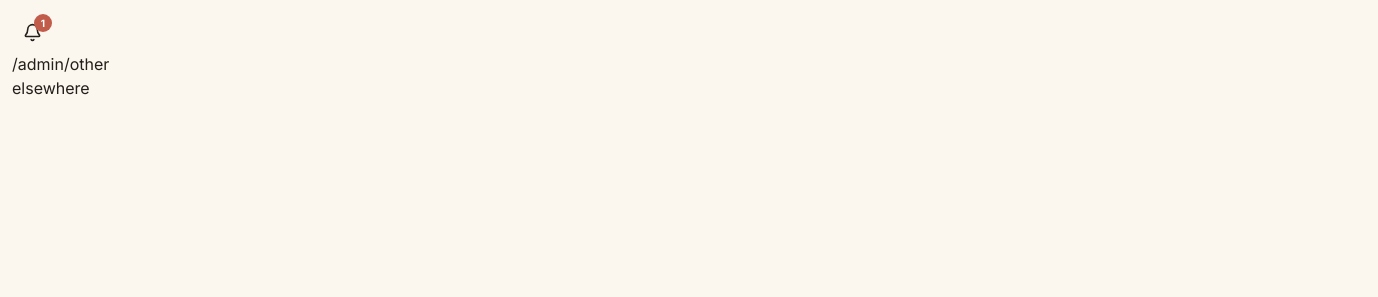
Test: Bell — recent dropdown › closes on Escape
This screenshot has width=1378, height=297.
Check: the text "1" is shown, box [34,14,52,32]
Click the button named "Notifications": point(32, 32) [12,12,52,52]
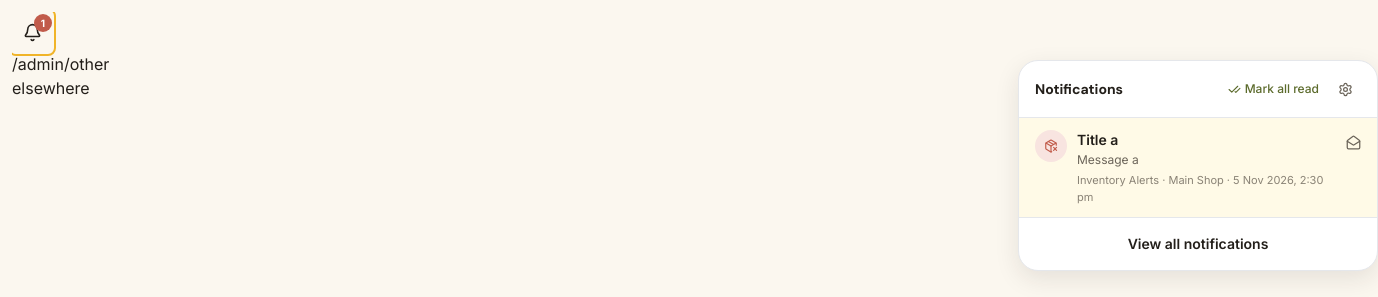
Check: the button "View all notifications" is shown, box [1027,226,1369,262]
Press Escape
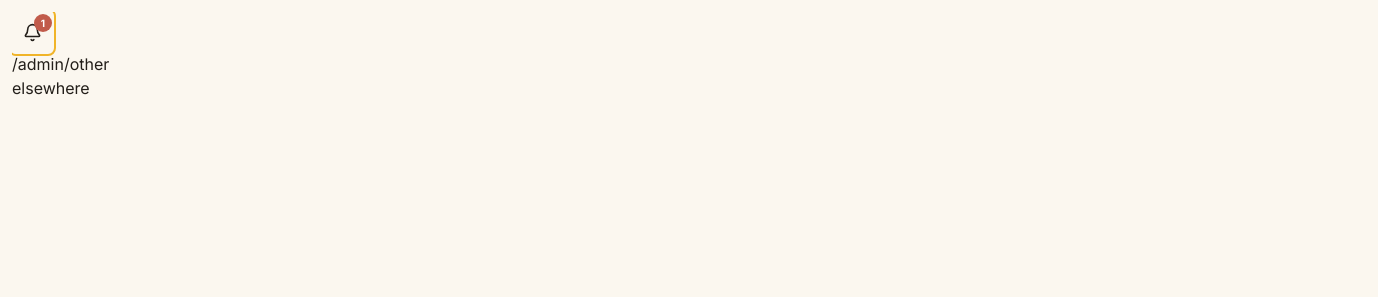
Check: the button "View all notifications" is gone
